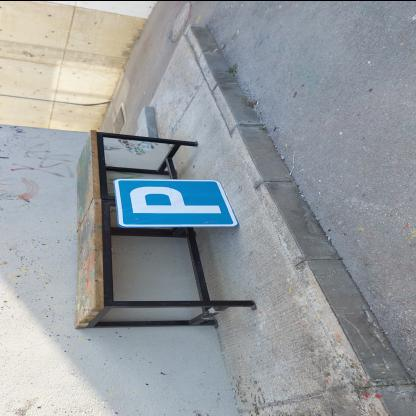Parking-Sign: (111, 178, 241, 228)
